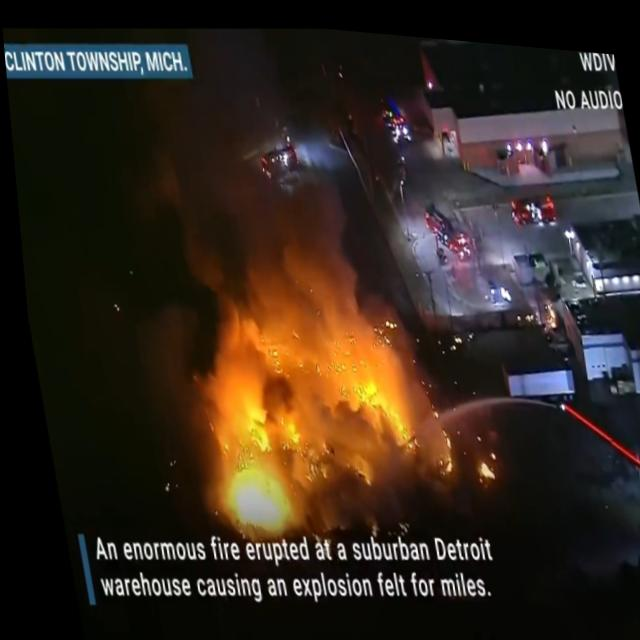Fire: (174, 297, 438, 578)
